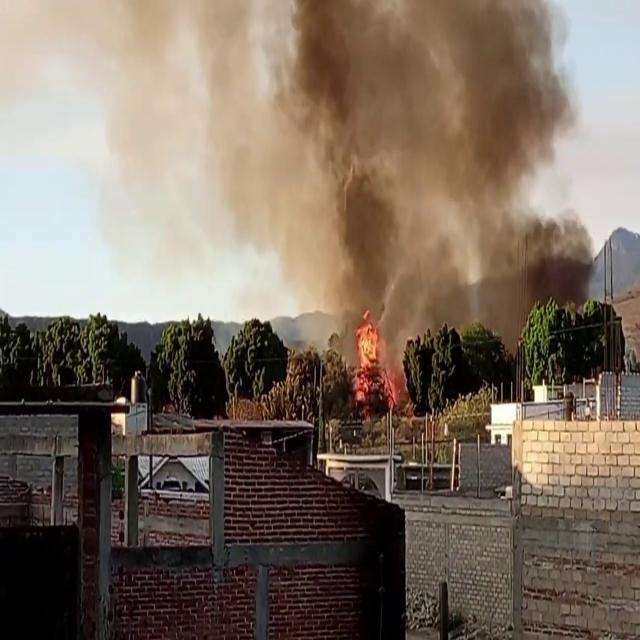Fire: (347, 312, 397, 400)
Smoke: (272, 0, 599, 349)
